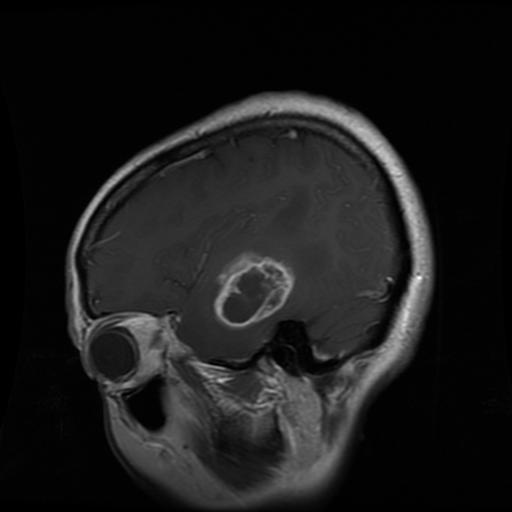Gliomia_tumour: (215, 253, 297, 329)
